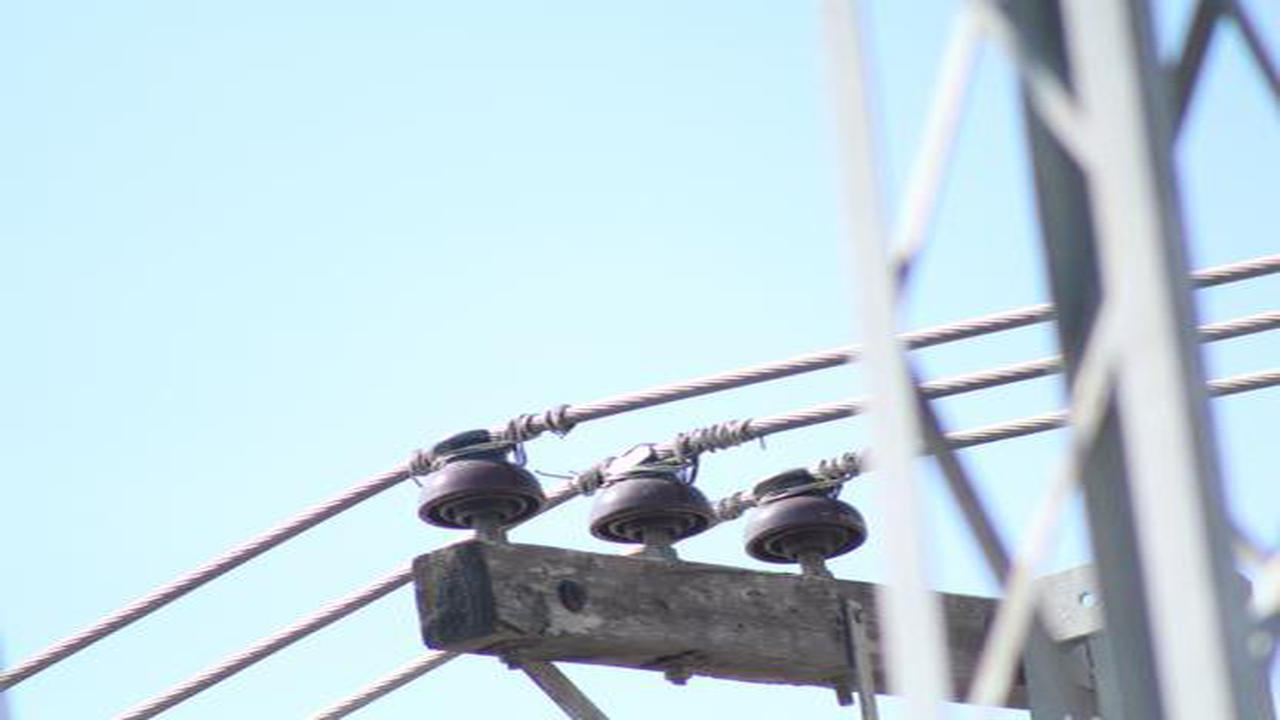insulator_pin: (411, 423, 549, 533), (587, 437, 721, 545), (738, 466, 871, 568)
